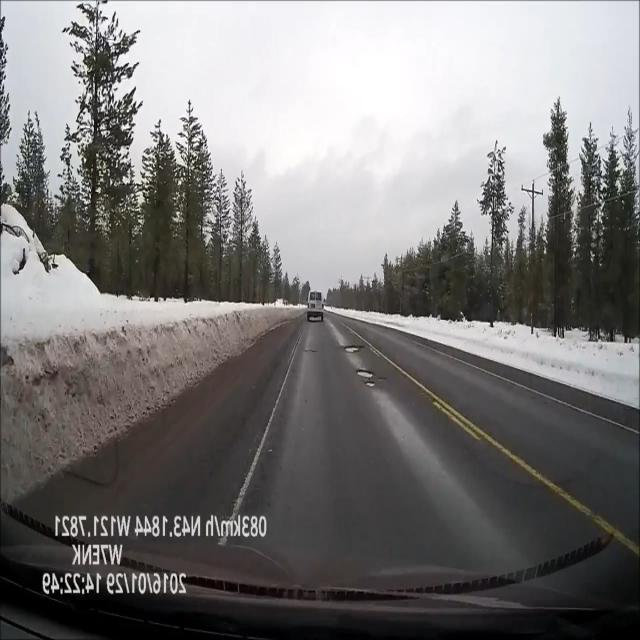pothole: (350, 366, 384, 394), (340, 336, 365, 356)
